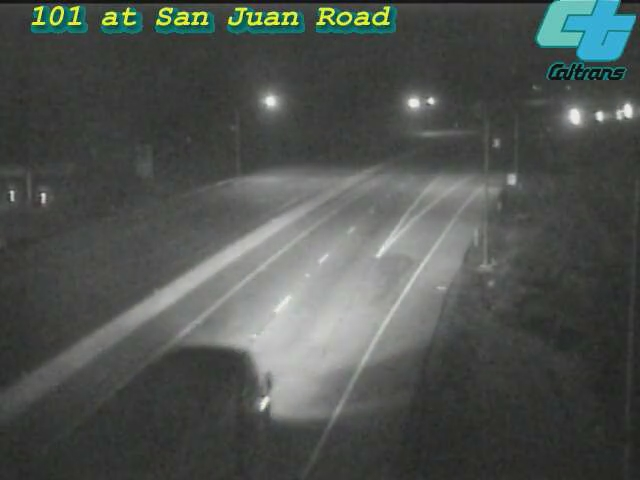vehicle: (103, 379, 213, 480), (575, 92, 625, 142), (552, 91, 602, 141), (594, 90, 640, 140), (604, 86, 640, 136)
